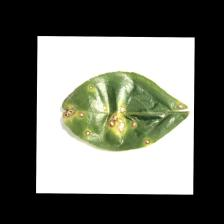canker: (47, 83, 168, 152)
